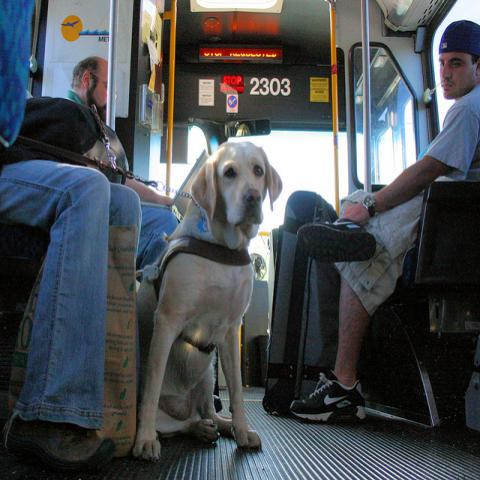bus: (24, 5, 479, 474)
